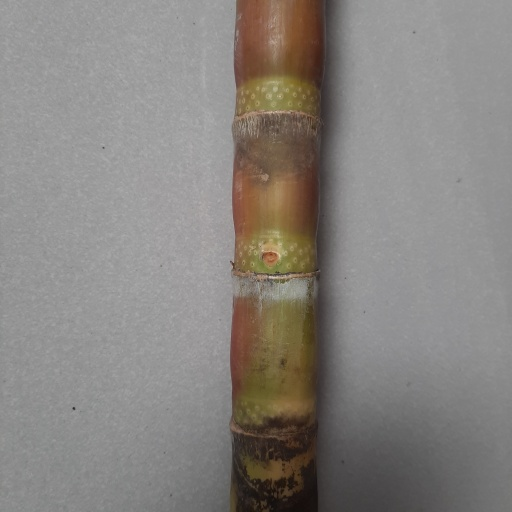Damage_Bud: (260, 251, 282, 269)
